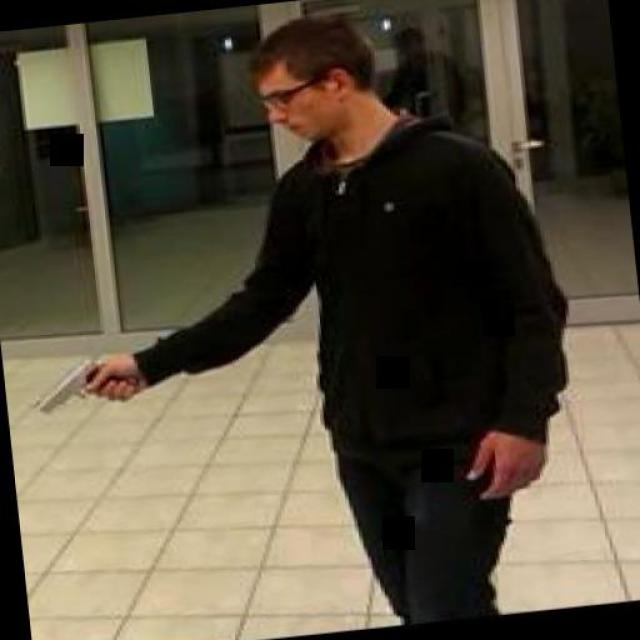gun: (27, 350, 132, 412)
